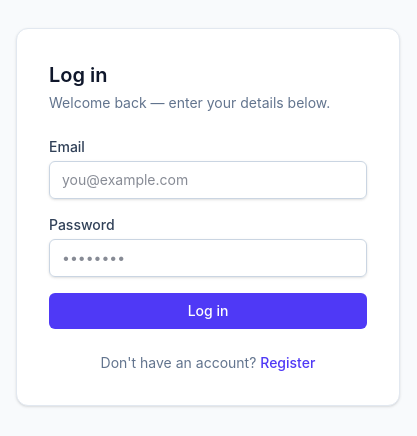
LoginPage › shows a validation error for a malformed email
In the field labelled "Email": (208, 180) [49, 161, 367, 199], type "not-an-email"
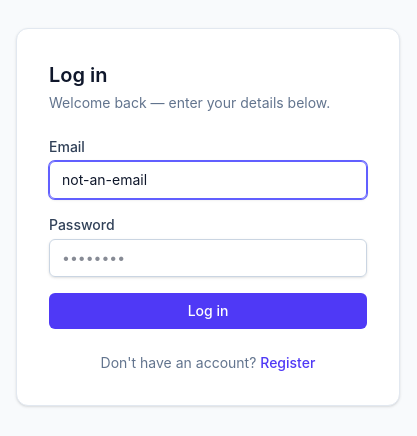
In the password field labelled "Password": (208, 258) [49, 239, 367, 277], type "password123"
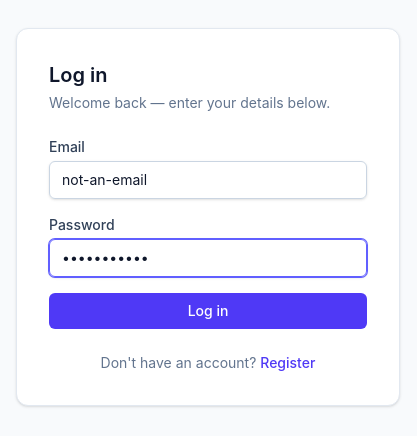
Click the button "Log in": (208, 311) [49, 293, 367, 329]
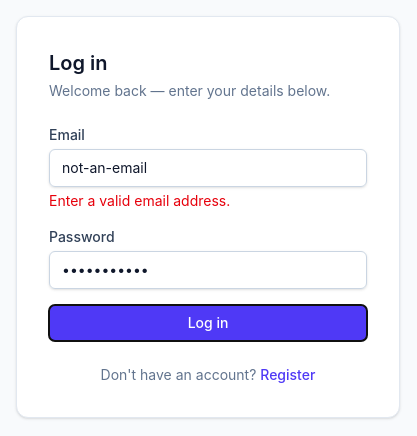
expect the text "Enter a valid email address." is shown: met, box [49, 192, 230, 209]
